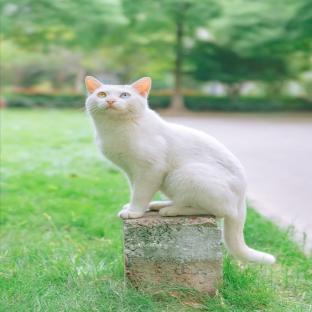Animal: (86, 76, 274, 263)
